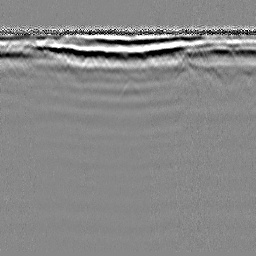cavity: (118, 76, 144, 103)
